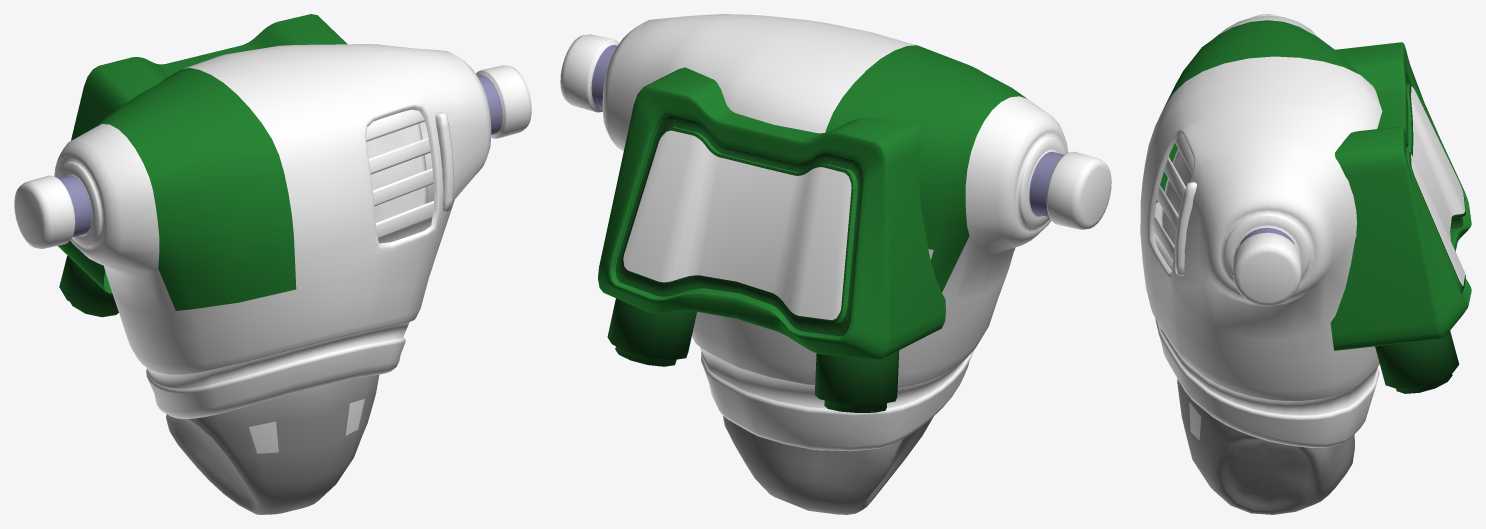
File: Treader_Body.fbx
3 renders of one model, left to right at view 1: azimuth 30°, elevation 25°; view 2: azimuth 150°, elevation 25°; view 3: azimuth 270°, elevation 25°, orthographic. The views are drawn at different scales.
Visible parts, largest first — view 1: Treader_Body; view 2: Treader_Body; view 3: Treader_Body.
Part boxes in pixels (x1,y1,x2,y2): Treader_Body: [14, 14, 531, 514]; Treader_Body: [560, 14, 1111, 514]; Treader_Body: [1140, 14, 1471, 514].
Size of the model in its own units: 0.8922 by 0.7539 by 0.531.
